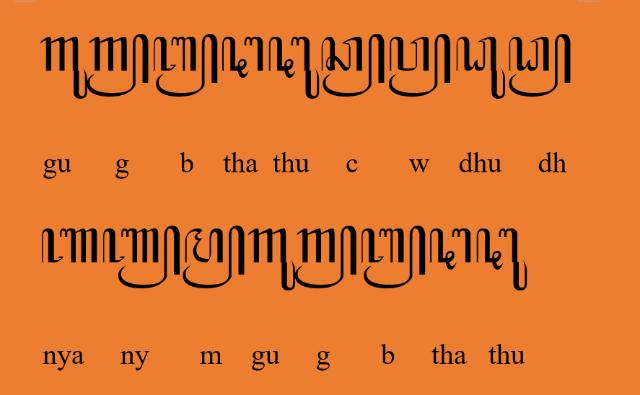-b: (153, 32, 219, 98), (360, 225, 426, 289)
-c: (322, 32, 386, 98)
-dh: (508, 34, 572, 96)
-g: (86, 32, 150, 98), (294, 224, 358, 290)
-m: (181, 224, 245, 290)
-ny: (101, 224, 180, 290)
-w: (388, 32, 452, 98)
dhu: (456, 36, 506, 98)
gu: (40, 36, 89, 100), (248, 228, 296, 290)
ny1: (42, 228, 98, 264)
th: (428, 228, 472, 270), (222, 36, 264, 78)
thu: (268, 35, 320, 99), (476, 228, 528, 292)
